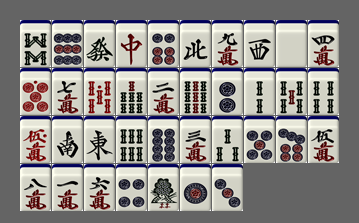0m: (20, 116, 51, 163)
0p: (20, 68, 51, 115)
0s: (84, 68, 115, 115)
1m: (52, 164, 83, 211)
1p: (180, 164, 211, 211)
1s: (148, 164, 179, 211)
1z: (84, 116, 115, 163)
2m: (148, 68, 179, 115)
2p: (212, 68, 243, 115)
2s: (244, 68, 275, 115)
2z: (52, 116, 83, 163)
3m: (180, 116, 211, 163)
3p: (212, 164, 243, 211)
3s: (212, 116, 243, 163)
3z: (244, 20, 275, 67)
4m: (308, 20, 339, 67)
4p: (116, 164, 147, 211)
4s: (308, 68, 339, 115)
4z: (180, 20, 211, 67)
5m: (308, 116, 339, 163)
5p: (244, 116, 275, 163)
5s: (276, 68, 307, 115)
5z: (276, 20, 307, 67)
6m: (84, 164, 115, 211)
6p: (148, 20, 179, 67)
6s: (116, 116, 147, 163)
6z: (84, 20, 115, 67)
7m: (52, 68, 83, 115)
7p: (276, 116, 307, 163)
7s: (116, 68, 147, 115)
7z: (116, 20, 147, 67)
8m: (20, 164, 51, 211)
8p: (148, 116, 179, 163)
8s: (20, 20, 51, 67)
9m: (212, 20, 243, 67)
9p: (52, 20, 83, 67)
9s: (180, 68, 211, 115)
